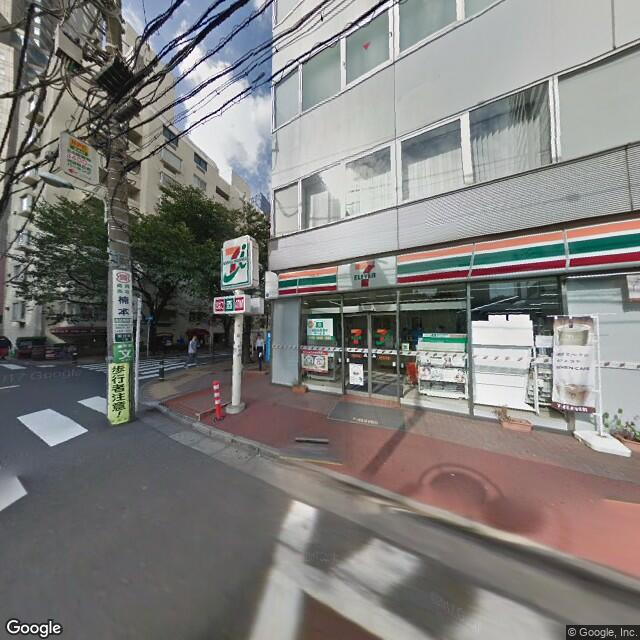7-eleven: (275, 210, 640, 300), (220, 238, 251, 287)
